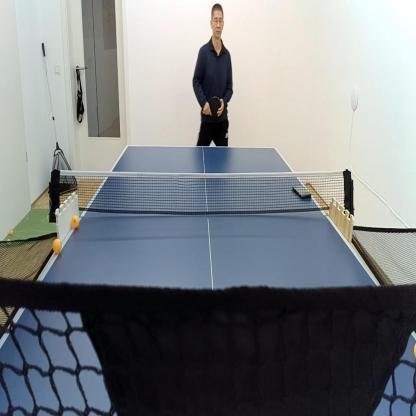Ball: (53, 238, 62, 252), (72, 216, 79, 226), (6, 241, 10, 245), (10, 229, 13, 234)
